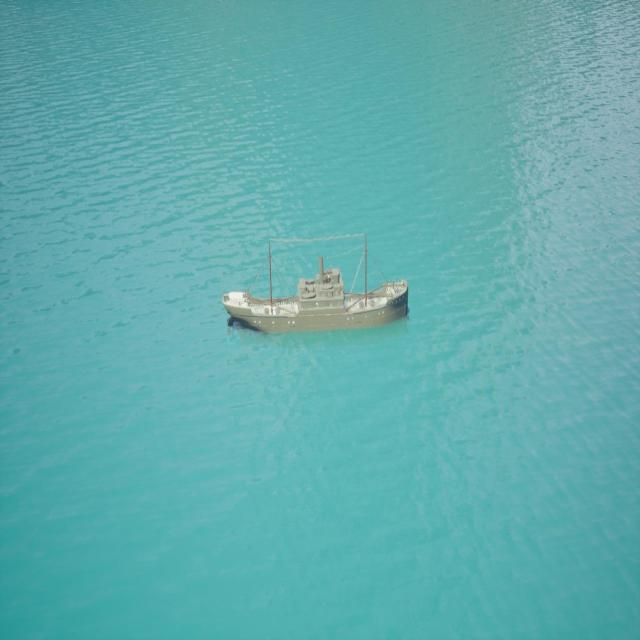fishing ship: (224, 233, 411, 339)
